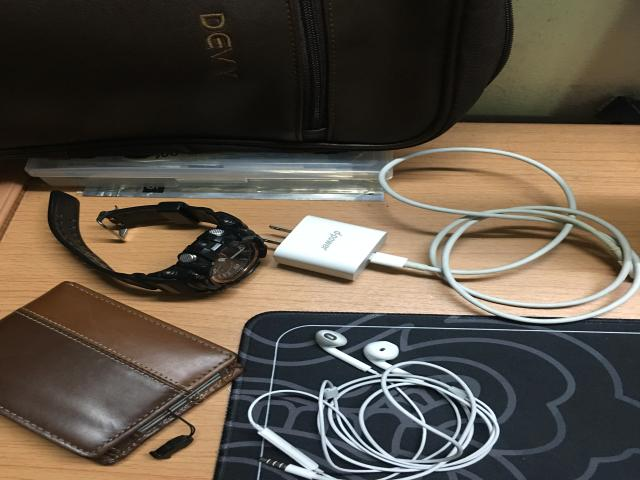Wallet: (0, 281, 243, 464)
Watch: (48, 191, 267, 293)
wire: (272, 148, 640, 323), (247, 330, 500, 480)
